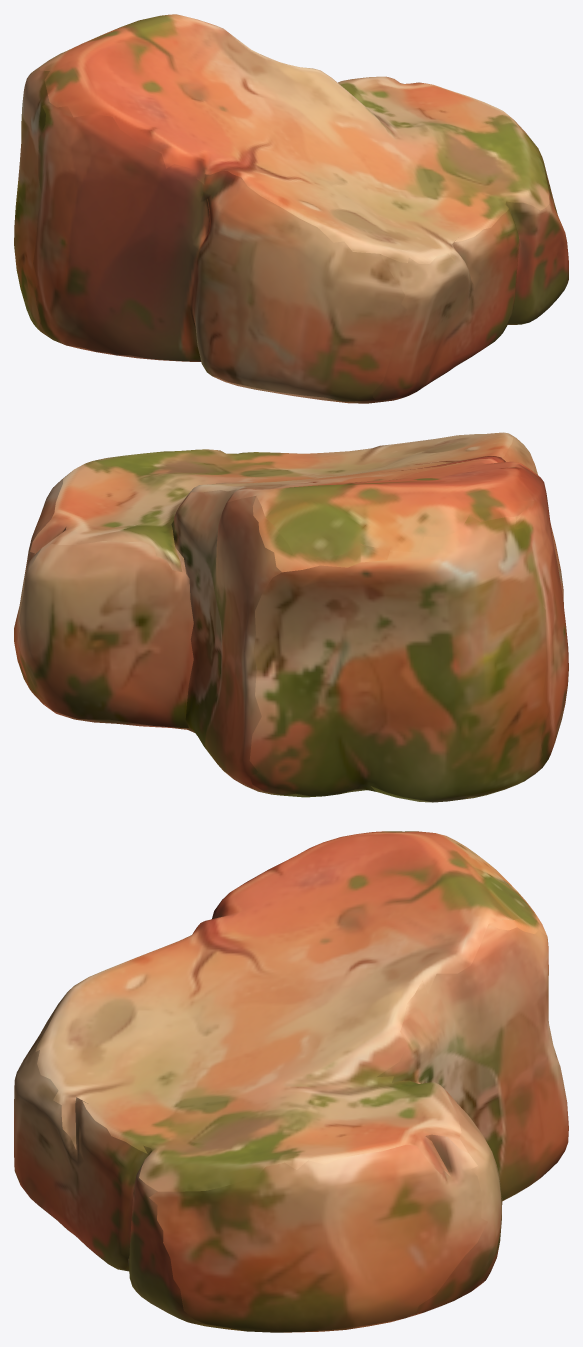
The model's file is BLD-08.glb.
The picture shows the model from 3 angles, top to bottom: view 1: azimuth 30°, elevation 25°; view 2: azimuth 150°, elevation 25°; view 3: azimuth 270°, elevation 25°; orthographic projection. The views are drawn at different scales.
Visible parts, largest first — view 1: BLD-08; view 2: BLD-08; view 3: BLD-08.
Boxes of the visible parts, box(x1,y1,x2,y2) form: BLD-08: box(14, 14, 568, 403); BLD-08: box(14, 432, 568, 802); BLD-08: box(14, 831, 568, 1332).
Bounding box in the file's own units: 0.6148 × 0.32 × 0.5628.
1 material, 1 textured.
